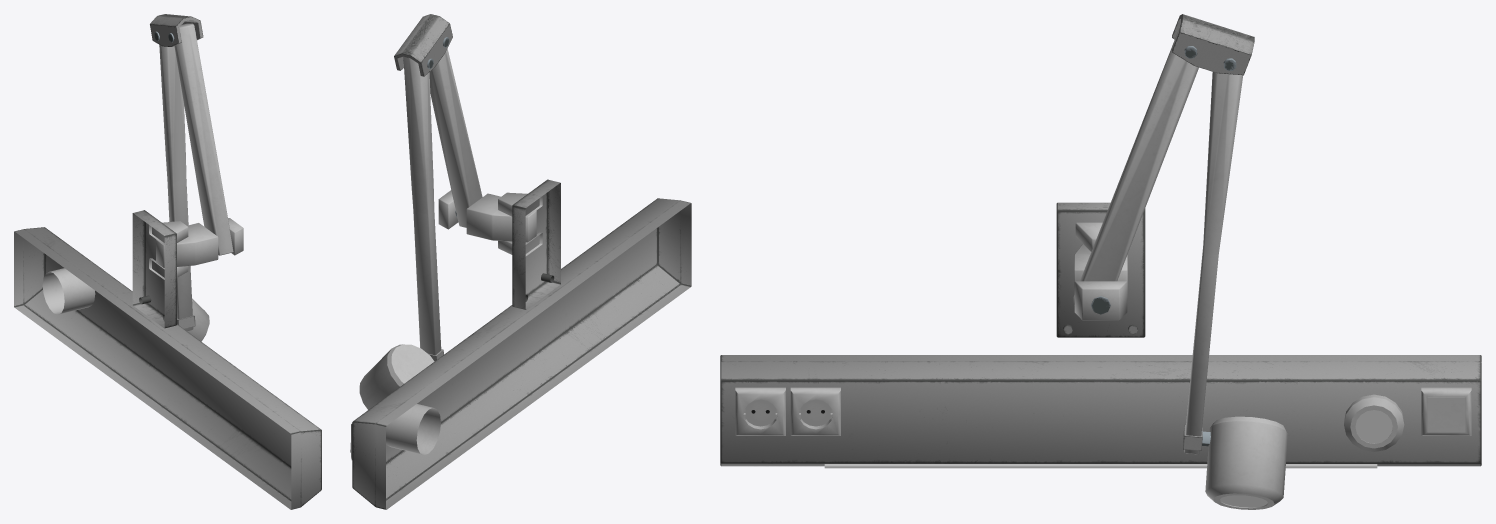
File: hospital_equip.fbx
3 views of the same model, side by side, from view 1: azimuth 30°, elevation 25°; view 2: azimuth 150°, elevation 25°; view 3: azimuth 270°, elevation 25° (orthographic). The views are drawn at different scales.
Visible parts, largest first — view 1: equipment, equipment_1, equipment_3, equipment.001, equipment_2, equipment_4; view 2: equipment, equipment_3, equipment_1, equipment.001, equipment_4, equipment_2; view 3: equipment, equipment_1, equipment_3, equipment_4, equipment_2, equipment.001.
Part boxes in pixels (left/top/right/bottom): equipment: left=14, top=210, right=321, bottom=509; equipment_1: left=174, top=23, right=233, bottom=255; equipment_3: left=159, top=45, right=195, bottom=331; equipment.001: left=156, top=218, right=243, bottom=268; equipment_2: left=150, top=14, right=203, bottom=46; equipment_4: left=187, top=298, right=209, bottom=341; equipment: left=350, top=179, right=691, bottom=509; equipment_3: left=403, top=56, right=443, bottom=361; equipment_1: left=429, top=48, right=482, bottom=227; equipment.001: left=438, top=190, right=536, bottom=242; equipment_4: left=359, top=344, right=434, bottom=409; equipment_2: left=394, top=14, right=452, bottom=76; equipment: left=720, top=202, right=1481, bottom=468; equipment_1: left=1073, top=28, right=1198, bottom=305; equipment_3: left=1183, top=72, right=1243, bottom=454; equipment_4: left=1201, top=416, right=1287, bottom=509; equipment_2: left=1172, top=14, right=1254, bottom=75; equipment.001: left=1074, top=244, right=1127, bottom=320.
Bounding box in the file's own units: 0.3444 × 1.06 × 1.51.
